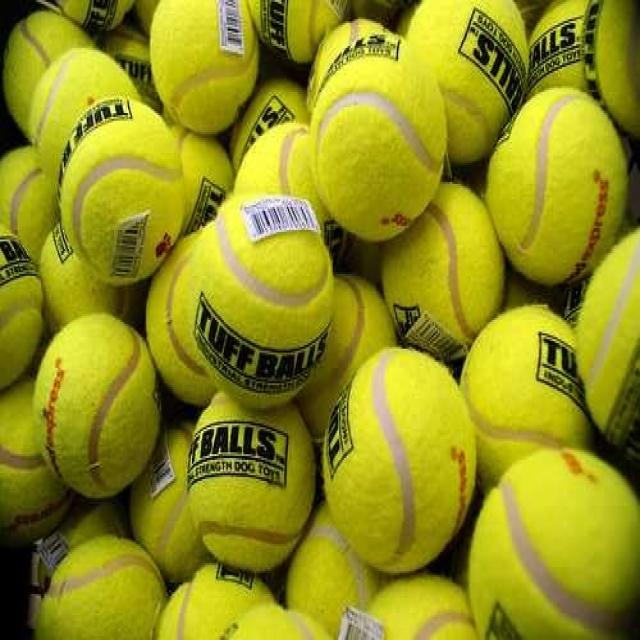Tennis_Ball: (461, 446, 640, 640), (331, 342, 469, 562), (198, 192, 327, 400), (186, 392, 319, 572), (317, 40, 435, 237), (496, 74, 610, 276), (32, 327, 162, 497), (75, 97, 184, 271), (529, 0, 640, 165), (408, 0, 524, 156), (239, 115, 344, 273), (465, 298, 573, 447), (383, 192, 494, 330), (305, 274, 395, 430), (150, 0, 256, 128), (581, 230, 640, 454), (41, 541, 170, 640), (36, 49, 135, 172), (0, 374, 70, 530), (123, 414, 199, 557), (5, 9, 84, 127), (157, 555, 265, 640), (288, 516, 372, 622), (368, 572, 496, 640), (246, 0, 351, 68), (42, 230, 110, 324), (0, 221, 38, 352), (0, 143, 51, 227), (50, 0, 132, 37)
